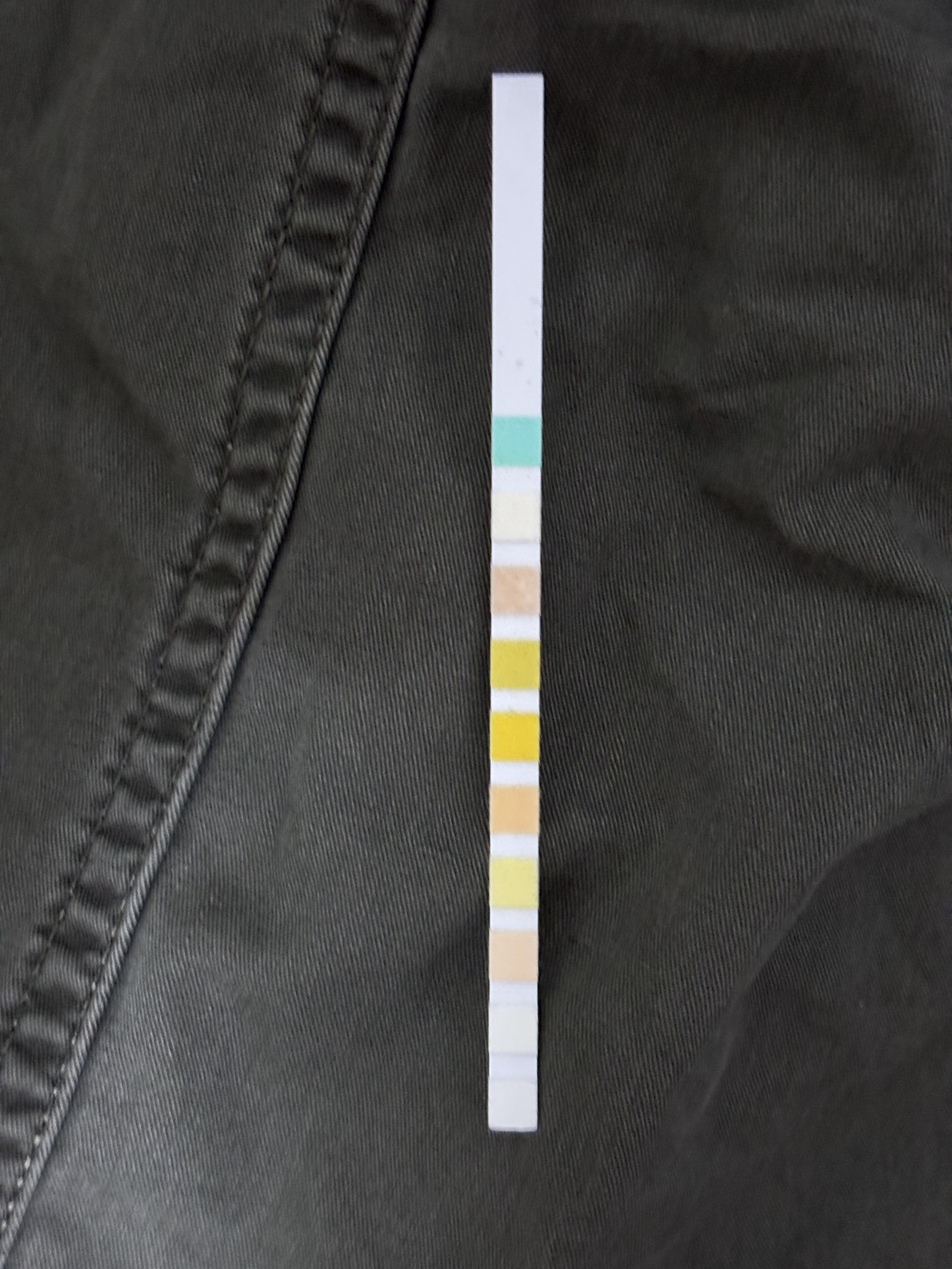Bilirubin: (494, 498, 539, 540)
Blood: (493, 714, 537, 761)
Glucose: (494, 419, 539, 463)
Ketone: (494, 568, 537, 612)
Leukocytes: (491, 1083, 535, 1126)
Nitrite: (491, 1012, 535, 1051)
Protein: (491, 861, 536, 906)
SpGravity: (492, 642, 537, 687)
Urobilinogen: (492, 933, 536, 980)
pH: (491, 789, 535, 831)
strip: (486, 118, 543, 1131)
